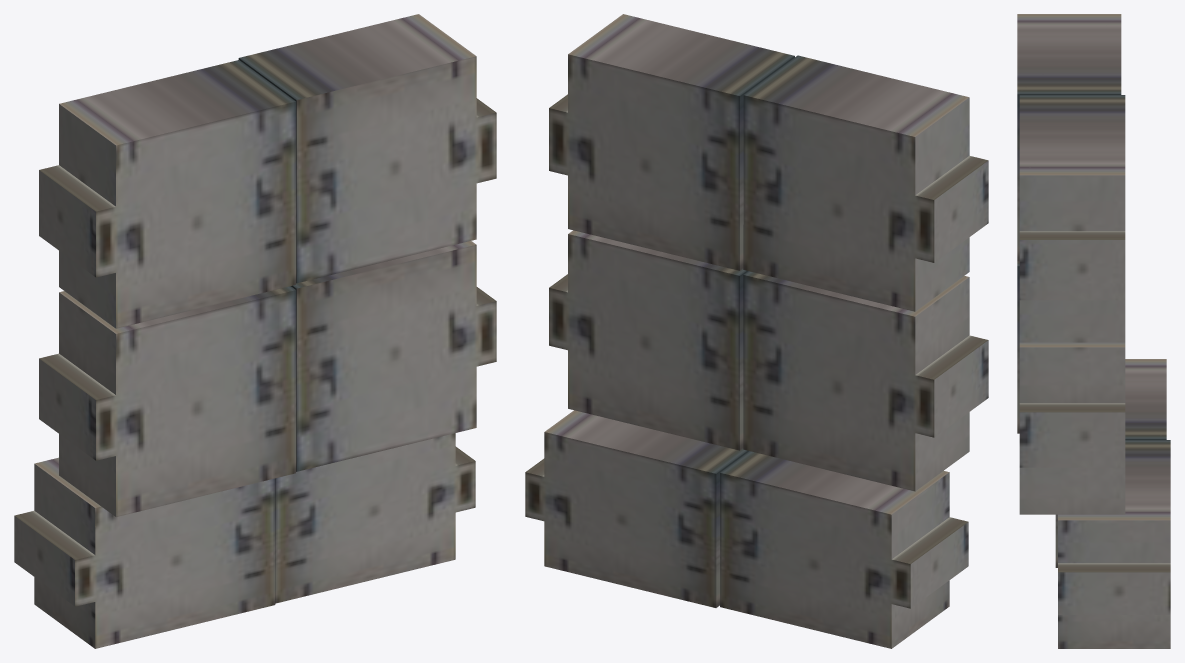
Rendered from s4_truss_23_battery_middle.dae.
The picture shows the model from 3 angles, left to right: view 1: azimuth 30°, elevation 25°; view 2: azimuth 150°, elevation 25°; view 3: azimuth 270°, elevation 25°; orthographic projection. The views are drawn at different scales.
Parts seen in each view (by area): view 1: 23 S4 Truss; view 2: 23 S4 Truss; view 3: 23 S4 Truss.
Boxes of the visible parts, x1,y1,x2,y2 form: 23 S4 Truss: [14, 14, 496, 648]; 23 S4 Truss: [525, 14, 988, 648]; 23 S4 Truss: [1017, 14, 1170, 648].
Size of the model in its own units: 2.11 by 0.763 by 2.6.
2 materials, 2 textured.
